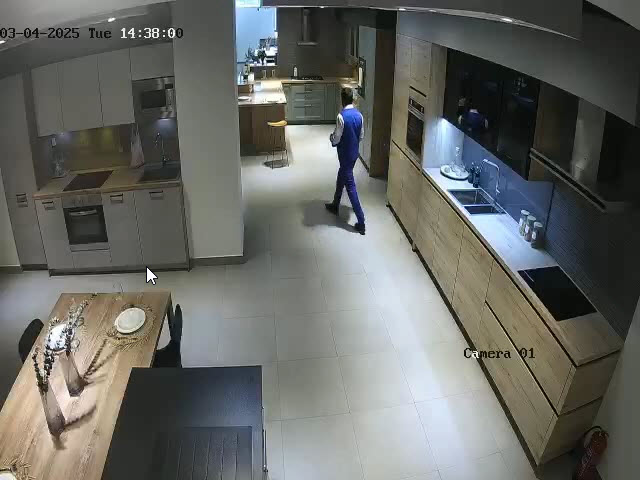employee: (323, 86, 366, 235)
